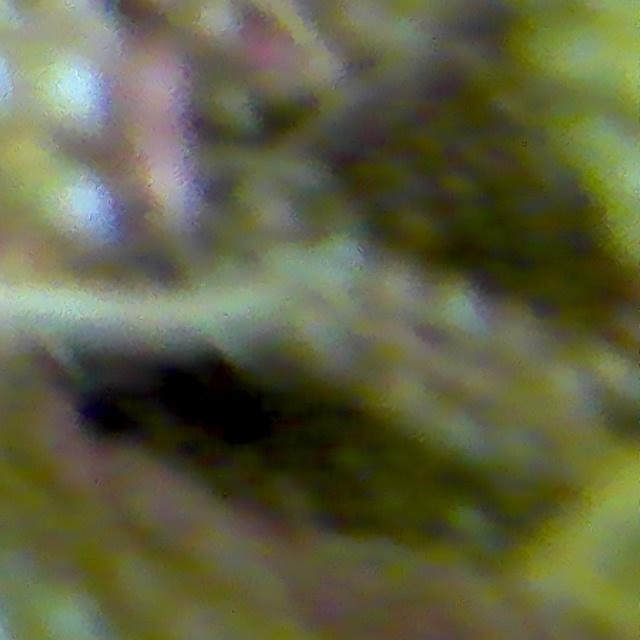SeaGrape: (22, 157, 113, 244), (26, 48, 109, 130), (113, 37, 183, 125), (22, 574, 112, 640)
